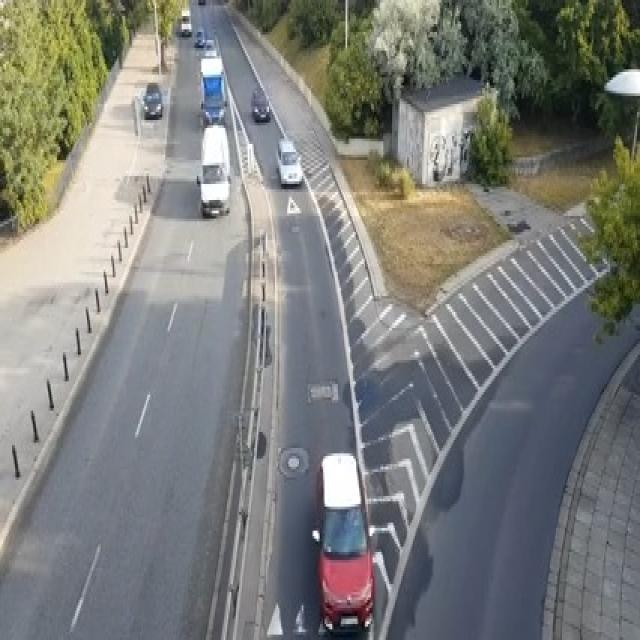bus: (195, 123, 230, 216), (198, 54, 227, 125)
car: (311, 451, 374, 632), (275, 136, 302, 187), (141, 80, 162, 117), (251, 85, 270, 120), (180, 8, 192, 35), (204, 37, 217, 56), (194, 27, 204, 45), (197, 0, 206, 3)
